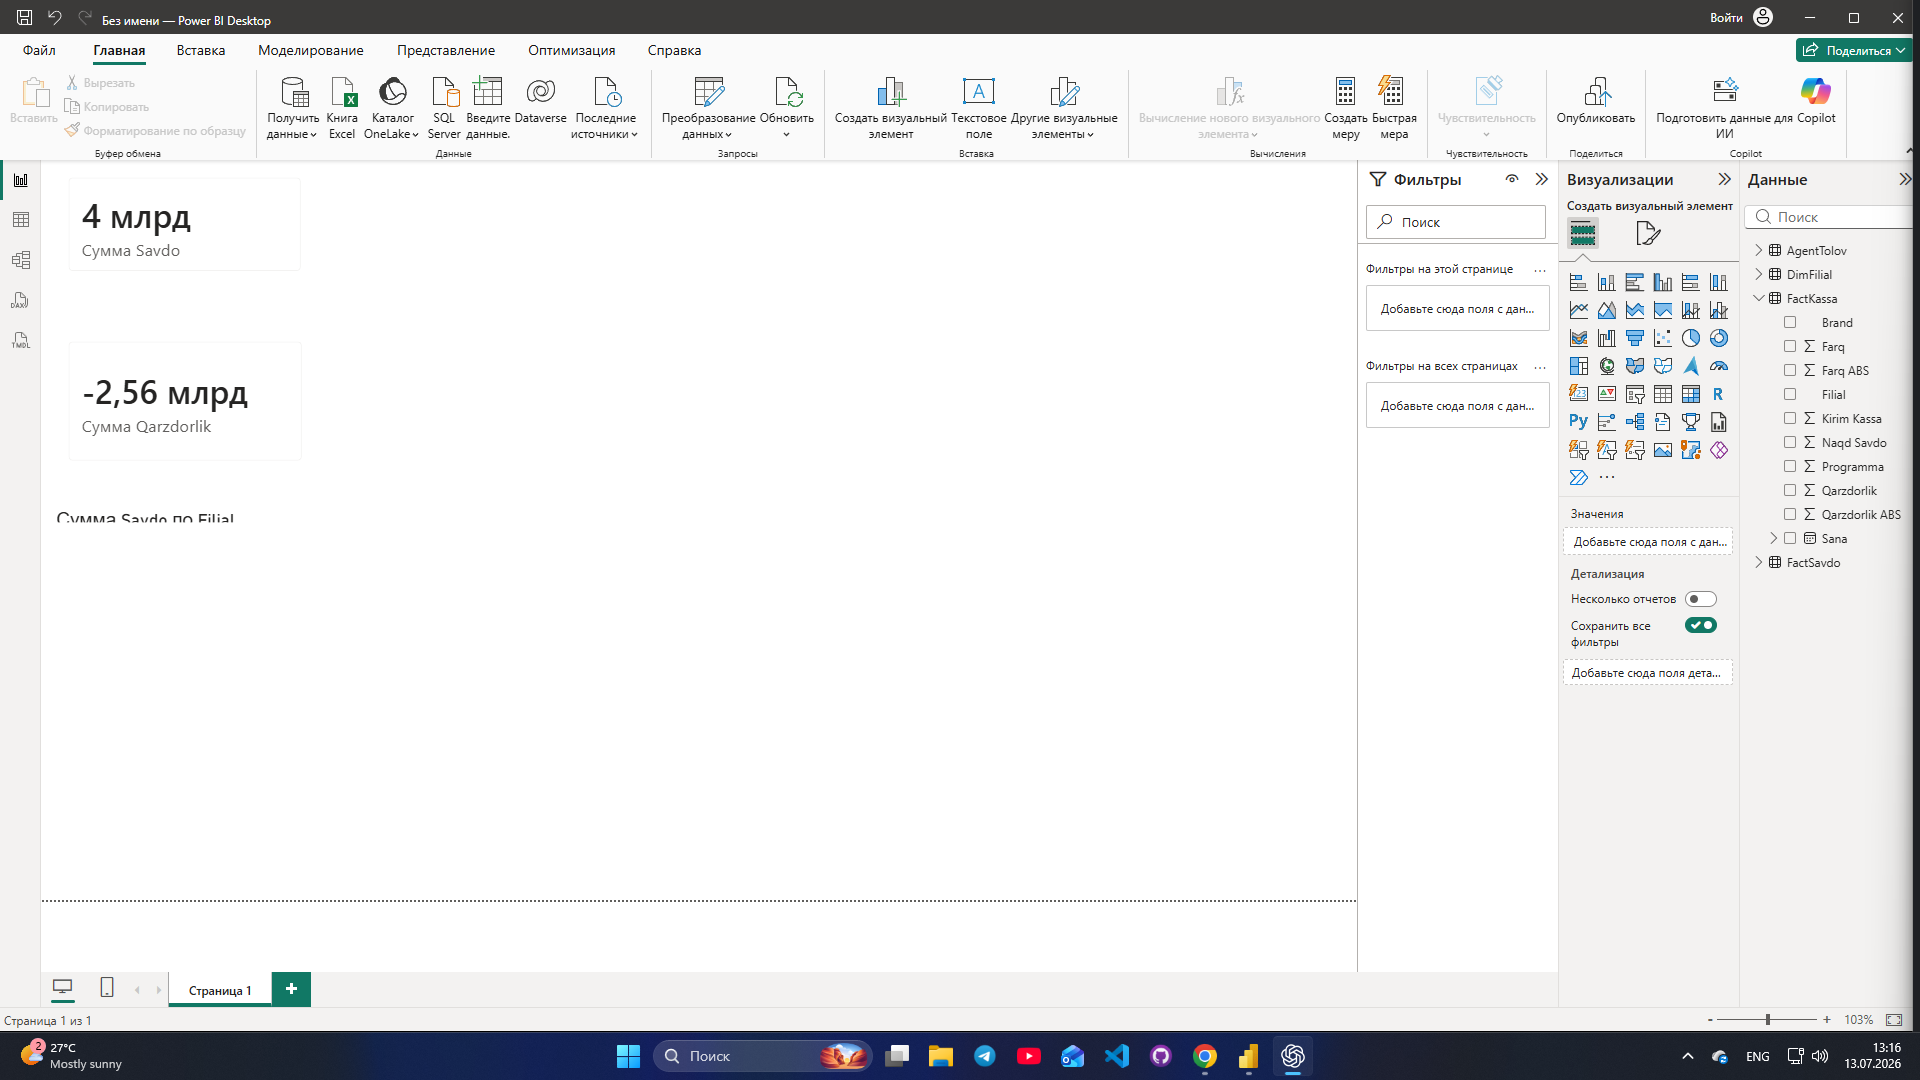

This screenshot's page, from the dashboard's own definition file:
{"tool":"powerbi","page":{"name":"Страница 1","canvas":[1280,720],"ordinal":0},"visuals":[{"type":"cardVisual","fields":{"Data":["Sum(FactSavdo.Savdo)"]},"box":[9.7,0,260.7,125.5],"z":0},{"type":"cardVisual","fields":{"Data":["Sum(FactKassa.Qarzdorlik)"]},"box":[10,159.5,261,150],"z":2},{"type":"clusteredColumnChart","fields":{"Category":["FactSavdo.Filial"],"Y":["Sum(FactSavdo.Savdo)"]},"box":[10,10,1157,150],"z":3}]}

Visuals, with their boxes on the page's 1280x720 design canvas (x1, y1, x2, y2). These are canvas units, not pixel positions in the 1920x1080 screenshot, which may show the page scaled, cropped or inside an application window:
cardVisual - Sum(FactSavdo.Savdo): crop(10, 0, 270, 126)
cardVisual - Sum(FactKassa.Qarzdorlik): crop(10, 160, 271, 310)
clusteredColumnChart - FactSavdo.Filial x Sum(FactSavdo.Savdo): crop(10, 10, 1167, 160)
